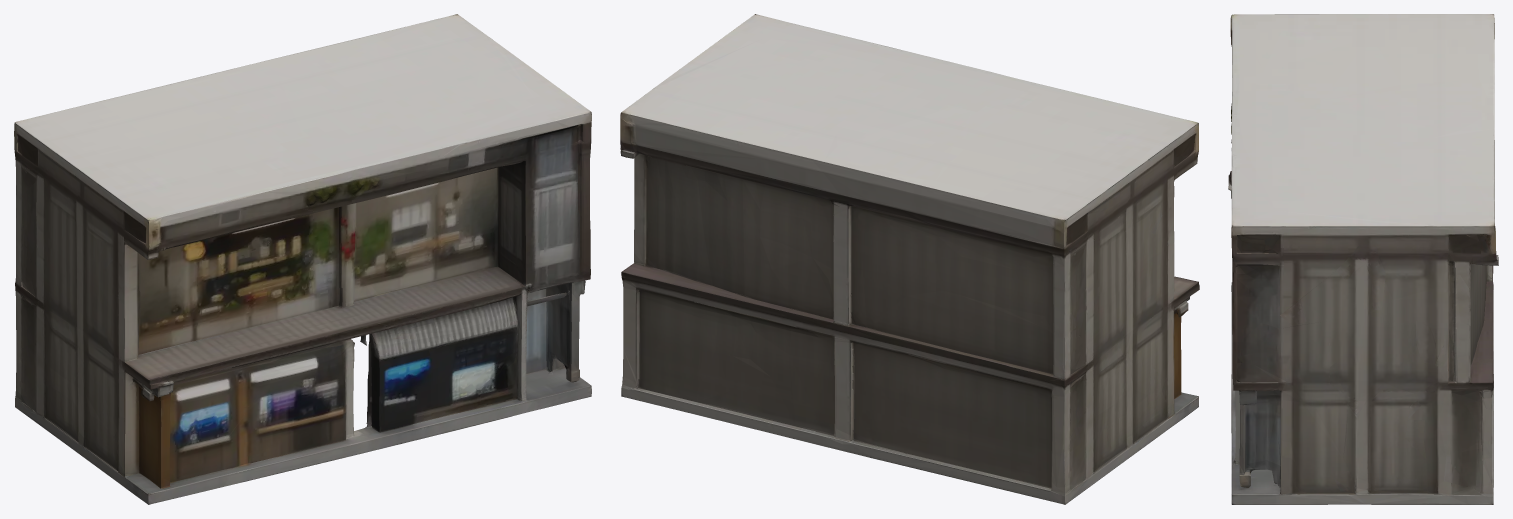
File: food_pizza_box_closed.glb
3 renders of one model, left to right at view 1: azimuth 30°, elevation 25°; view 2: azimuth 150°, elevation 25°; view 3: azimuth 270°, elevation 25°, orthographic. The views are drawn at different scales.
Visible parts, largest first — view 1: geometry_0; view 2: geometry_0; view 3: geometry_0.
Boxes of the visible parts, x1,y1,x2,y2 form: geometry_0: [14, 14, 591, 504]; geometry_0: [620, 14, 1199, 504]; geometry_0: [1228, 14, 1498, 504].
Size of the model in its own units: 1 by 0.6147 by 0.5382.
1 material, 1 textured.
